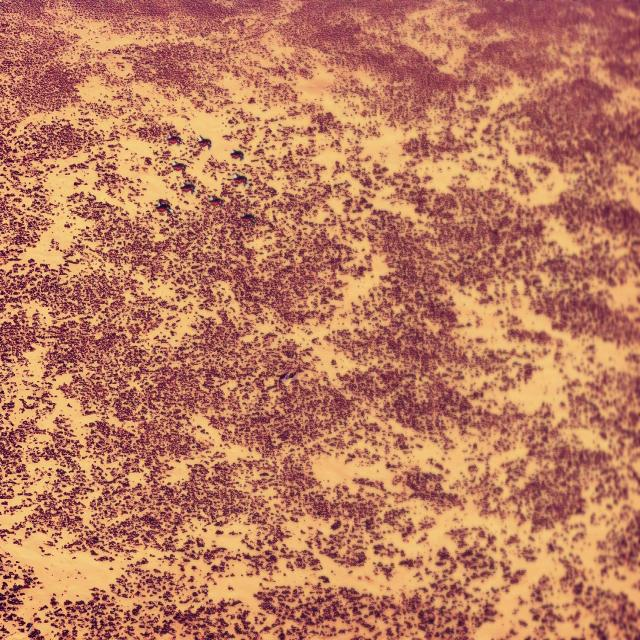airplane: (154, 197, 172, 215), (165, 130, 181, 150), (239, 208, 256, 225), (180, 180, 196, 197), (209, 194, 226, 208), (230, 147, 245, 162), (197, 134, 211, 150), (232, 173, 248, 187), (172, 160, 186, 172)
